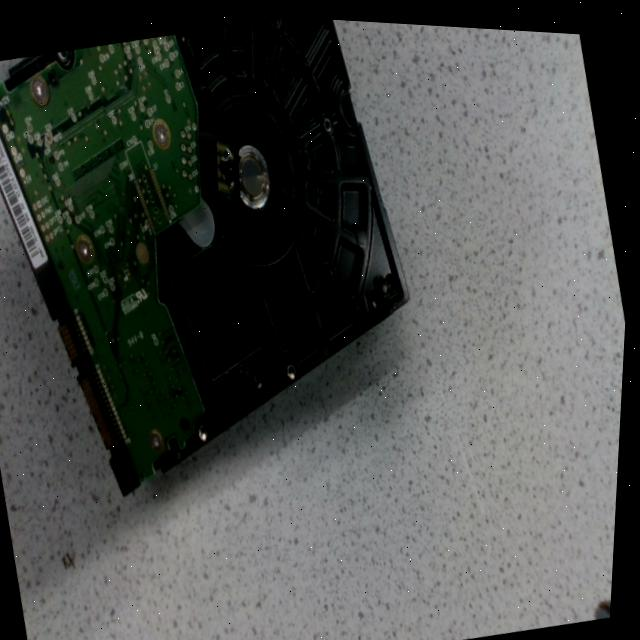case: (0, 13, 411, 492)
pcb: (0, 33, 207, 476)
screw: (31, 73, 50, 104), (154, 117, 172, 146), (79, 234, 96, 261), (153, 426, 169, 450)
